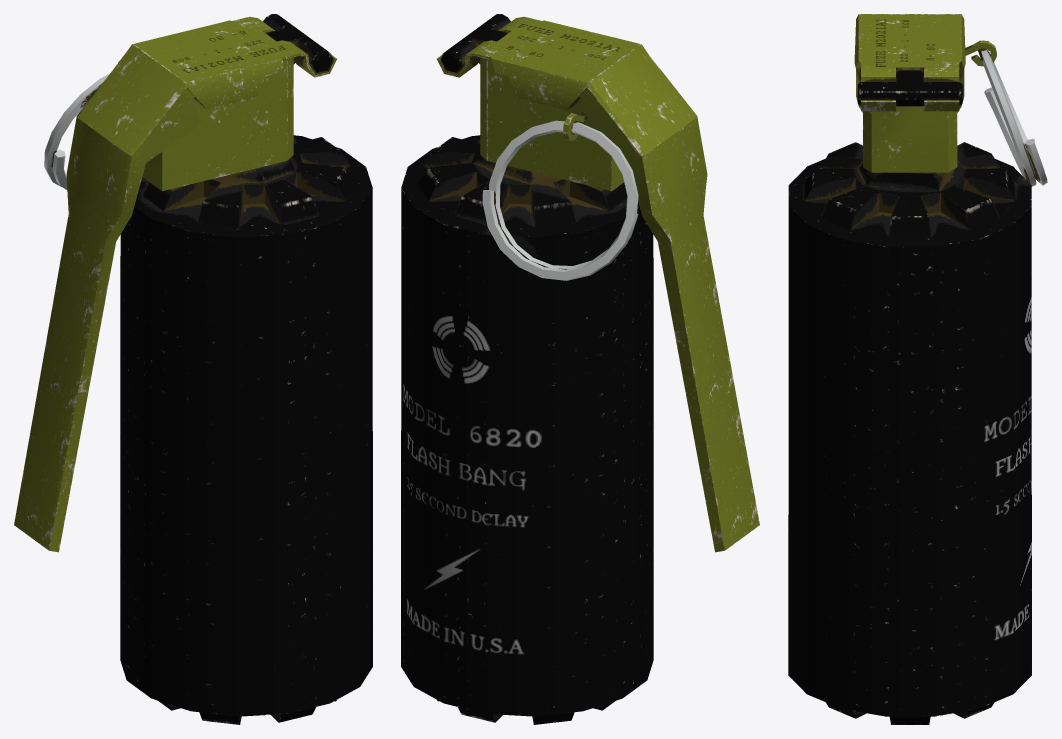
File: Flashbang.obj
The picture shows the model from 3 angles, left to right: view 1: azimuth 30°, elevation 25°; view 2: azimuth 150°, elevation 25°; view 3: azimuth 270°, elevation 25°; orthographic projection. The views are drawn at different scales.
Parts seen in each view (by area): view 1: Flashbang; view 2: Flashbang; view 3: Flashbang.
Boxes of the visible parts, x1,y1,x2,y2 form: Flashbang: (14, 14, 372, 724); Flashbang: (401, 14, 759, 724); Flashbang: (788, 14, 1047, 724).
Size of the model in its own units: 15.5 by 29.57 by 11.
